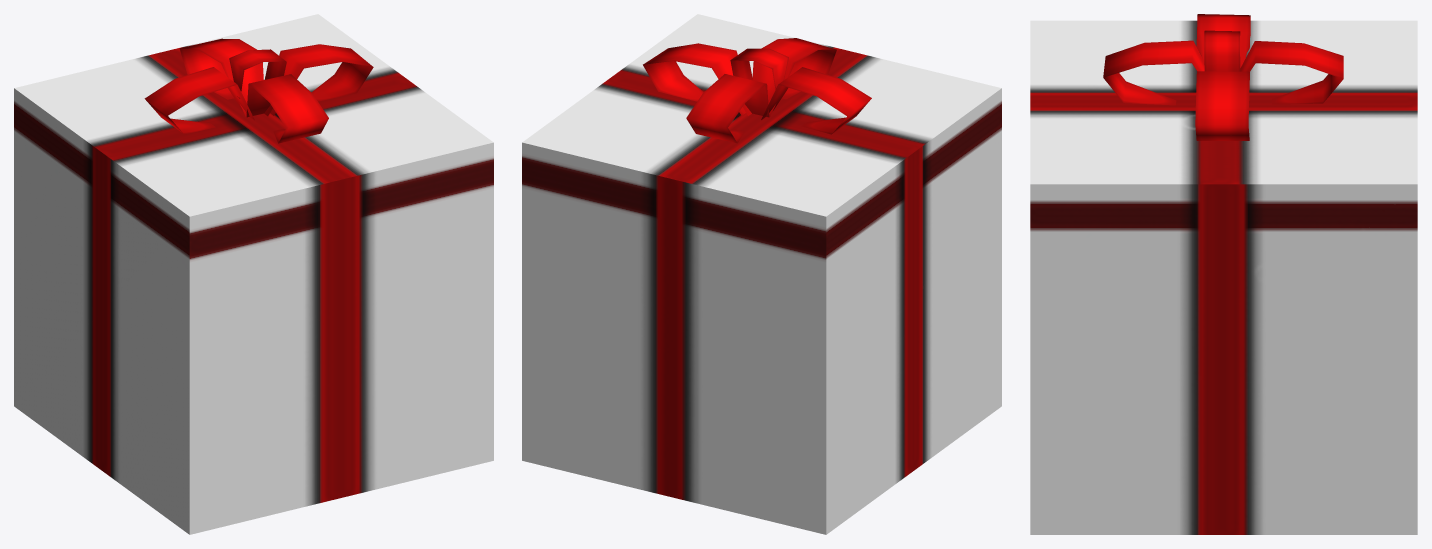
File: Gift_3.fbx
3 renders of one model, left to right at view 1: azimuth 30°, elevation 25°; view 2: azimuth 150°, elevation 25°; view 3: azimuth 270°, elevation 25°, orthographic. The views are drawn at different scales.
Parts seen in each view (by area): view 1: Gift__3; view 2: Gift__3; view 3: Gift__3.
Part boxes in pixels (x1,y1,x2,y2): Gift__3: (14, 14, 493, 534); Gift__3: (522, 14, 1001, 534); Gift__3: (1030, 14, 1417, 534).
Size of the model in its own units: 2 by 2.38 by 2.
1 material, 1 textured.
